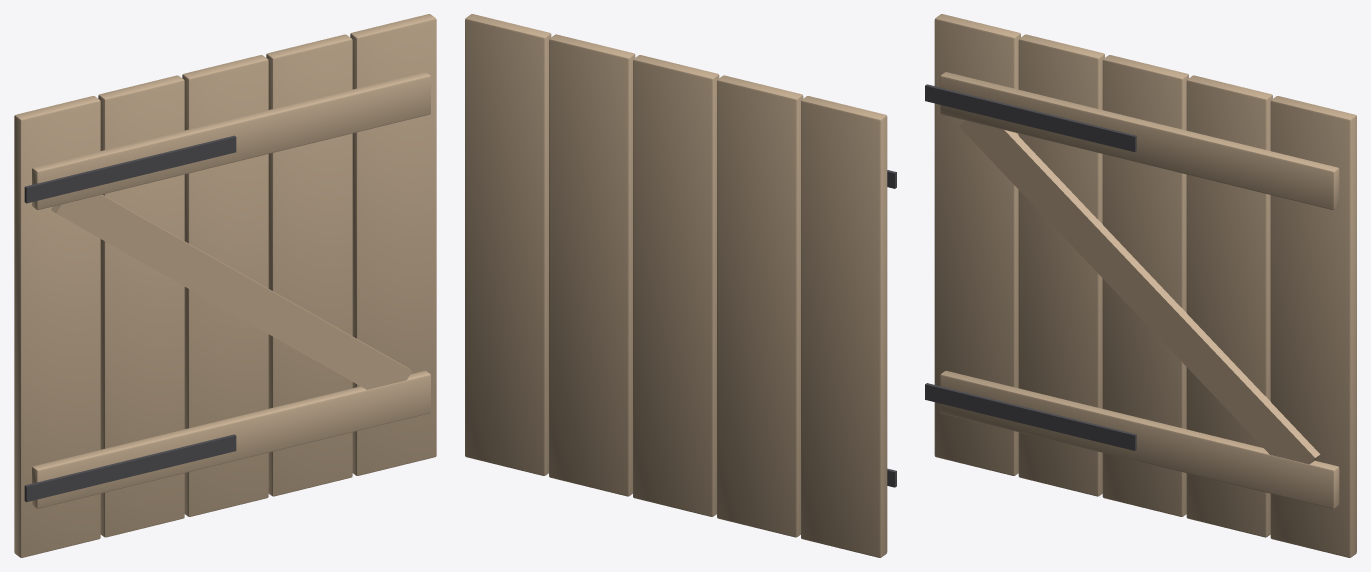
File: volet.glb
3 views of the same model, side by side, from view 1: azimuth 30°, elevation 25°; view 2: azimuth 150°, elevation 25°; view 3: azimuth 330°, elevation 25° (orthographic).
Visible parts, largest first — view 1: volet; view 2: volet; view 3: volet.
Boxes of the visible parts, <box> form: volet: <box>14,14,436,557</box>; volet: <box>465,14,896,557</box>; volet: <box>925,14,1356,557</box>.
Size of the model in its own units: 0.996 by 1 by 0.06.
